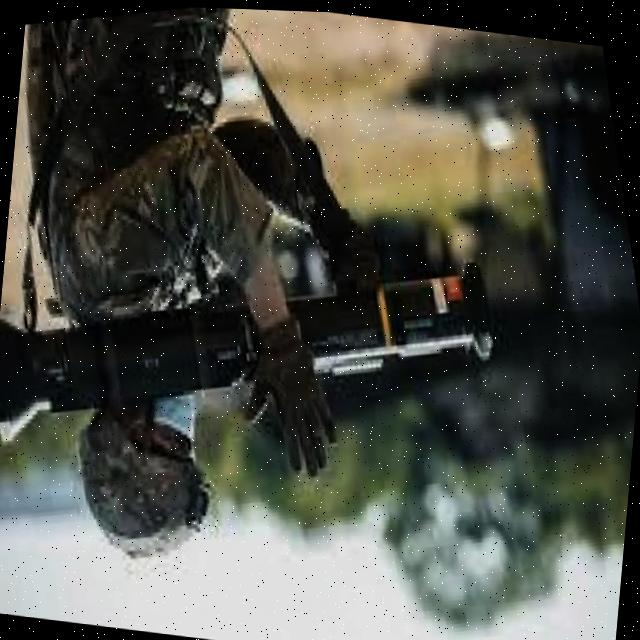rocket: (0, 198, 517, 511)
